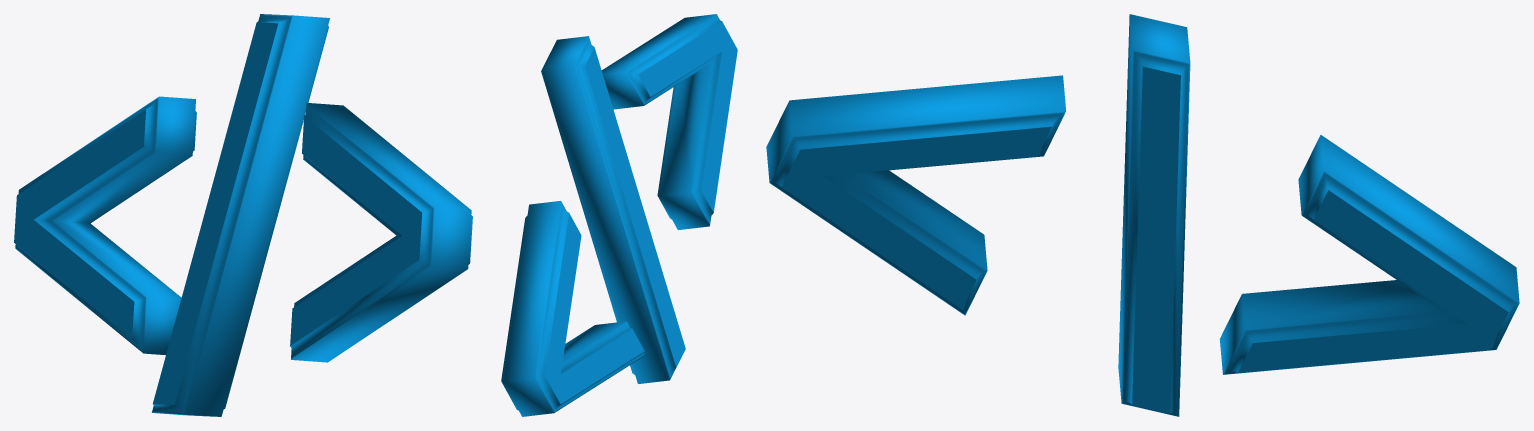
File: dev3D.glb
3 renders of one model, left to right at view 1: azimuth 30°, elevation 25°; view 2: azimuth 150°, elevation 25°; view 3: azimuth 270°, elevation 25°, orthographic. The views are drawn at different scales.
Parts seen in each view (by area): view 1: Text; view 2: Text; view 3: Text.
Boxes of the visible parts, bbox=[...] form: Text: bbox=[14, 14, 472, 416]; Text: bbox=[501, 14, 737, 416]; Text: bbox=[766, 14, 1519, 416].
Size of the model in its own units: 0.3297 by 0.7503 by 1.14.
